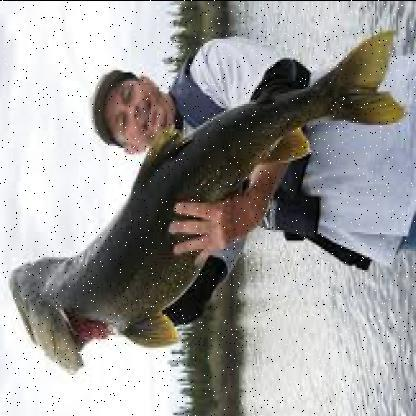fish: (6, 32, 404, 376)
